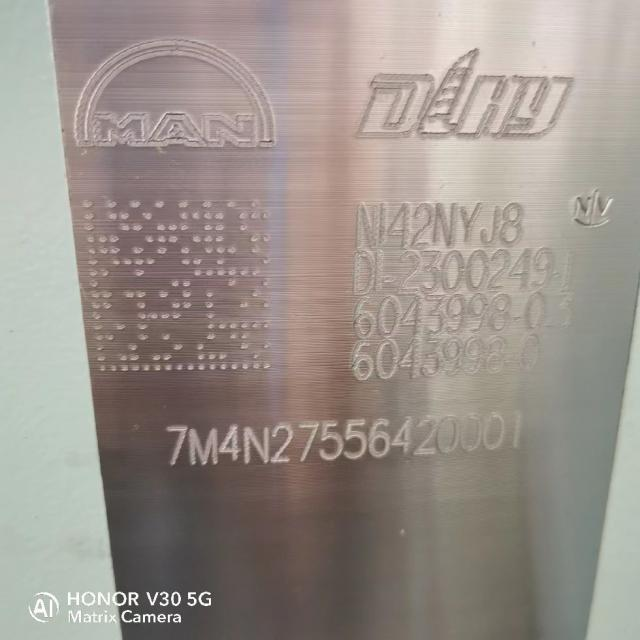dmc: (83, 199, 270, 371)
